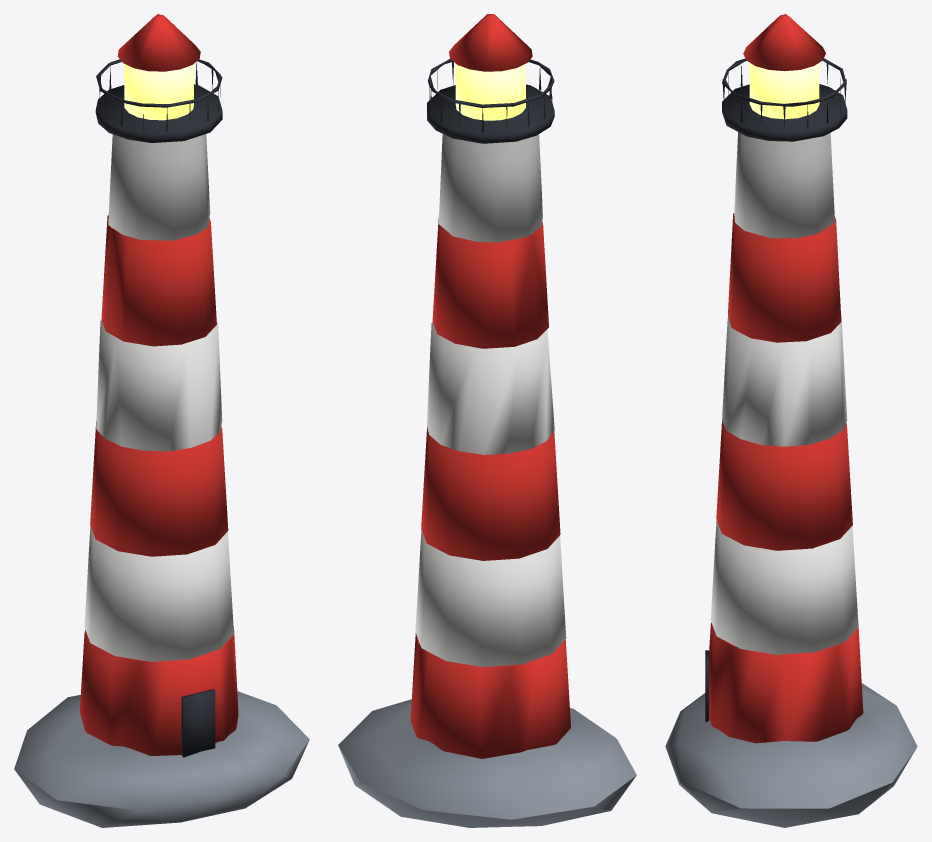
Rendered from lighthouse_lod.glb.
3 renders of one model, left to right at view 1: azimuth 30°, elevation 25°; view 2: azimuth 150°, elevation 25°; view 3: azimuth 270°, elevation 25°, orthographic.
Visible parts, largest first — view 1: lighthouse_lod; view 2: lighthouse_lod; view 3: lighthouse_lod.
Boxes of the visible parts, box(x1,y1,x2,y2) form: lighthouse_lod: box(14, 14, 309, 827); lighthouse_lod: box(338, 14, 636, 827); lighthouse_lod: box(665, 14, 917, 827).
Size of the model in its own units: 6.19 by 18.28 by 5.4.
